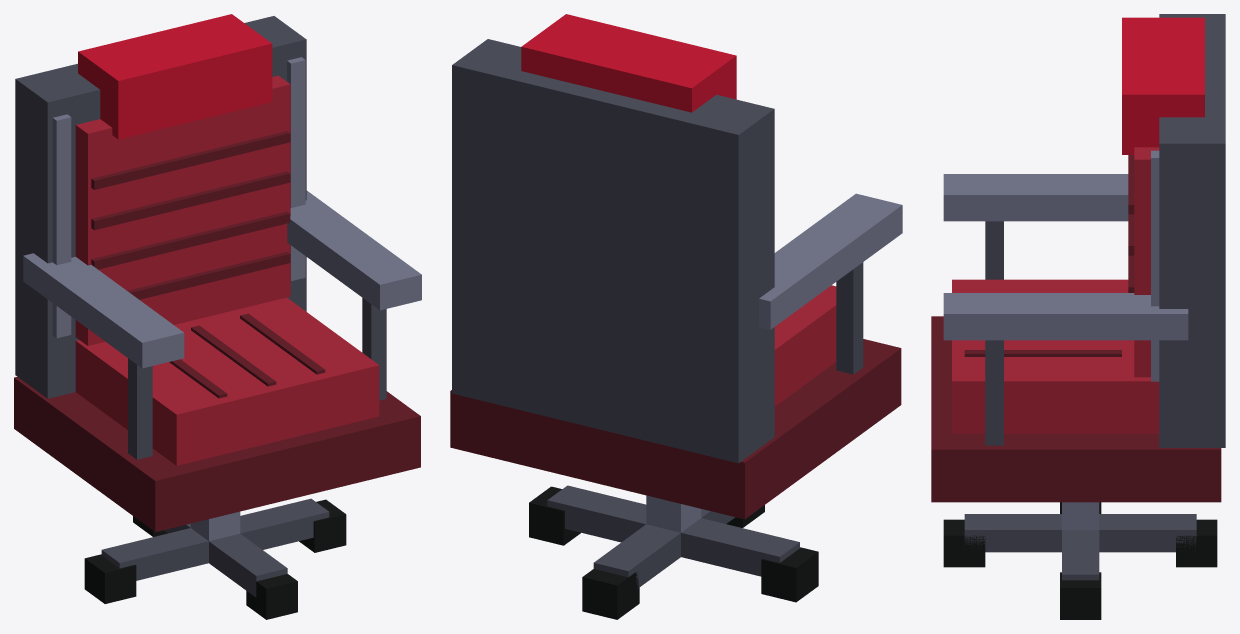
Rendered from CMU3DComfyChairAlpha.glb.
3 renders of one model, left to right at view 1: azimuth 30°, elevation 25°; view 2: azimuth 150°, elevation 25°; view 3: azimuth 270°, elevation 25°, orthographic. The views are drawn at different scales.
Visible parts, largest first — view 1: back cushion, seat cushion, seat base, back shell, headrest, upholstery rib (×4), left arm pad, right arm pad, back edge piping (×2), caster cross X, caster wheel (×3), arm front stanchion (×2) (+3 smaller); view 2: back shell, seat base, headrest, left arm pad, caster cross X, caster wheel (×3), seat cushion, caster cross Y, arm front stanchion, chrome swivel stem; view 3: back shell, seat base, seat cushion, right arm pad, headrest, left arm pad, caster cross Y, caster wheel (×3), back cushion, arm front stanchion (×2), caster cross X, back edge piping (+3 smaller).
Boxes of the visible parts, x1,y1,x2,y2 form: back cushion: (75, 75, 290, 345); seat cushion: (75, 297, 379, 465); seat base: (14, 377, 420, 531); back shell: (15, 16, 306, 398); headrest: (78, 14, 272, 139); upholstery rib (×4): (91, 131, 290, 299); left arm pad: (23, 253, 184, 368); right arm pad: (287, 190, 421, 310); back edge piping (×2): (52, 57, 305, 338); caster cross X: (101, 498, 329, 580); caster wheel (×3): (84, 499, 346, 619); arm front stanchion (×2): (128, 298, 386, 459); back shell: (452, 39, 774, 463); seat base: (450, 339, 901, 519); headrest: (521, 14, 736, 112); left arm pad: (759, 193, 902, 329); caster cross X: (547, 485, 799, 576); caster wheel (×3): (529, 486, 818, 619); seat cushion: (774, 285, 836, 406); caster cross Y: (593, 509, 735, 588); arm front stanchion: (836, 262, 863, 374); chrome swivel stem: (646, 495, 701, 532); back shell: (1159, 14, 1225, 447); seat base: (931, 316, 1221, 502); seat cushion: (952, 279, 1159, 433); right arm pad: (943, 293, 1188, 340); headrest: (1122, 17, 1204, 154); left arm pad: (943, 174, 1128, 221); caster cross Y: (964, 514, 1196, 552); caster wheel (×3): (943, 519, 1217, 619); back cushion: (1134, 147, 1159, 377); arm front stanchion (×2): (985, 221, 1003, 445); caster cross X: (1062, 530, 1099, 580); back edge piping: (1151, 150, 1159, 381).
Bounding box in the file's own units: 0.8 × 1.34 × 0.71.
